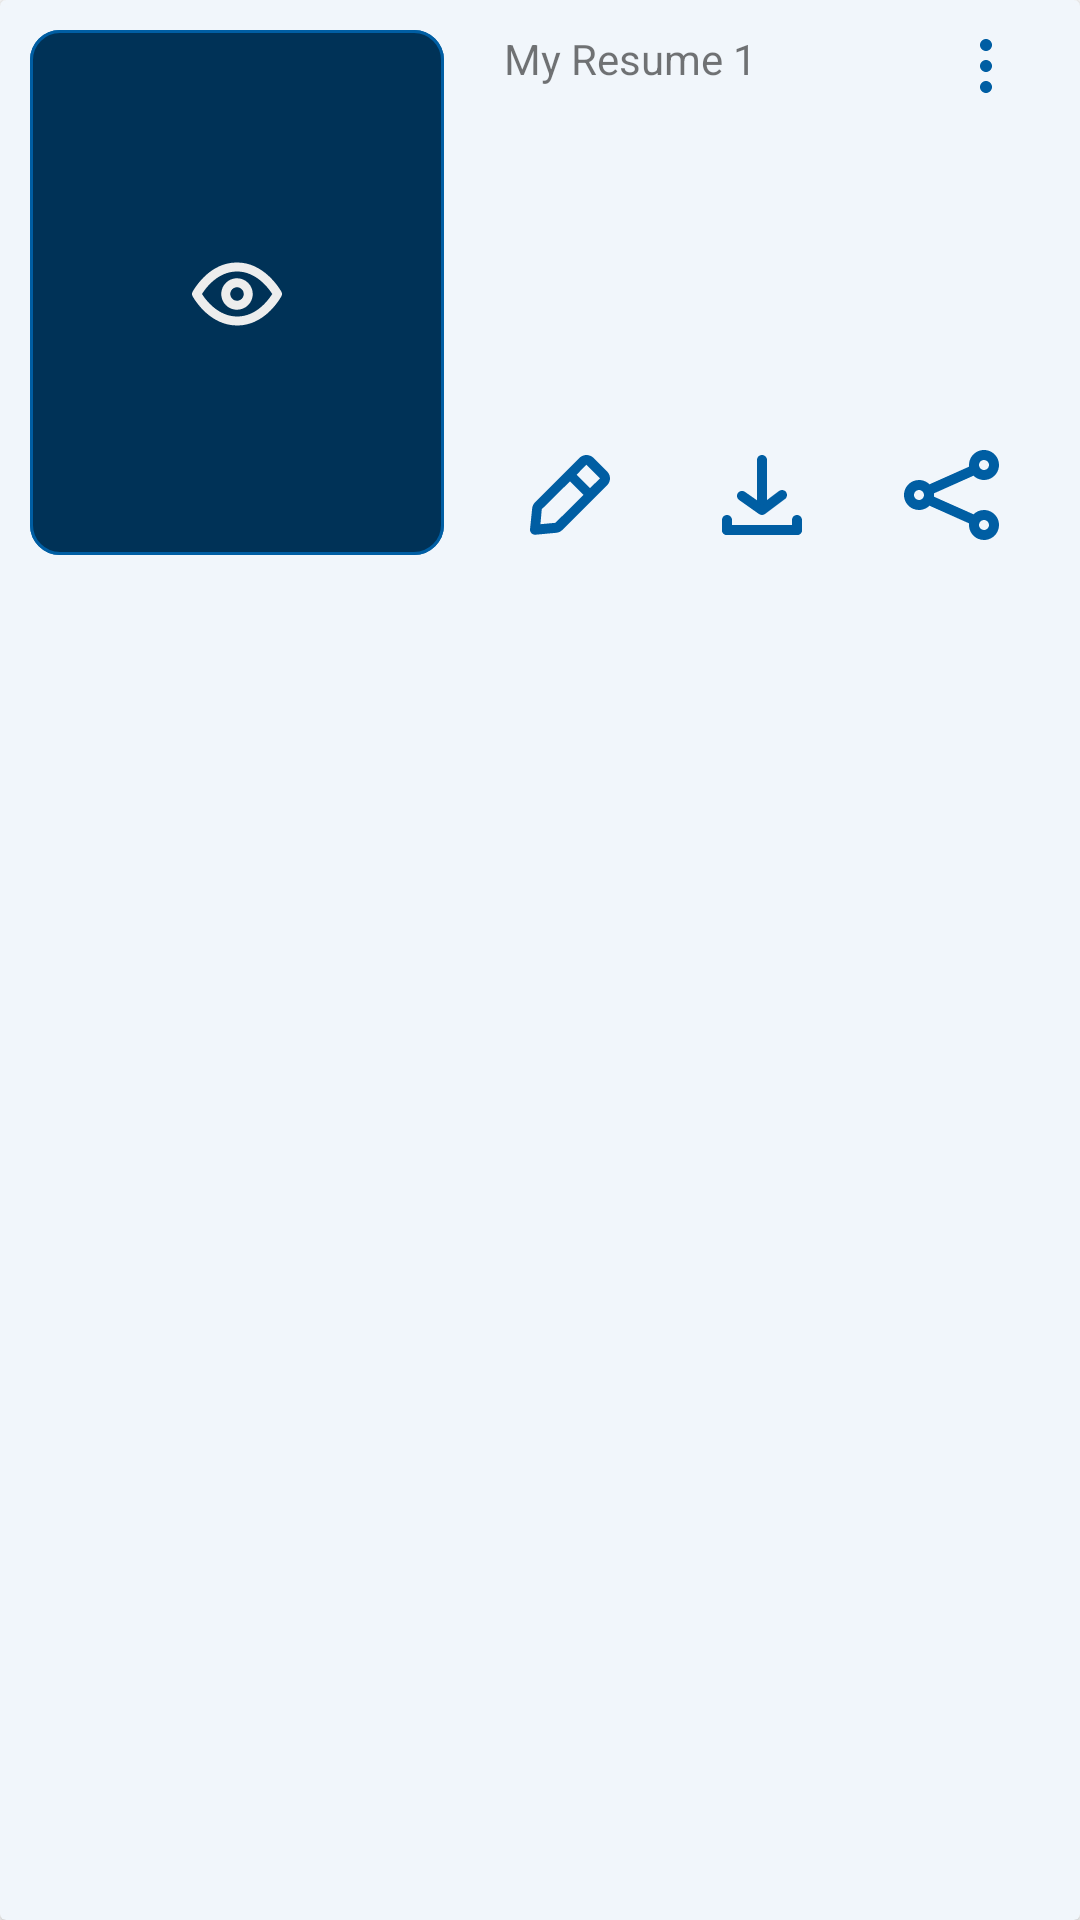

Screen size 1080w x 1920h. Icon name, then its center in pixels as point (x, y):
Download Resume: point (762, 495)
Edit resume: point (570, 495)
Share resume: point (951, 495)
